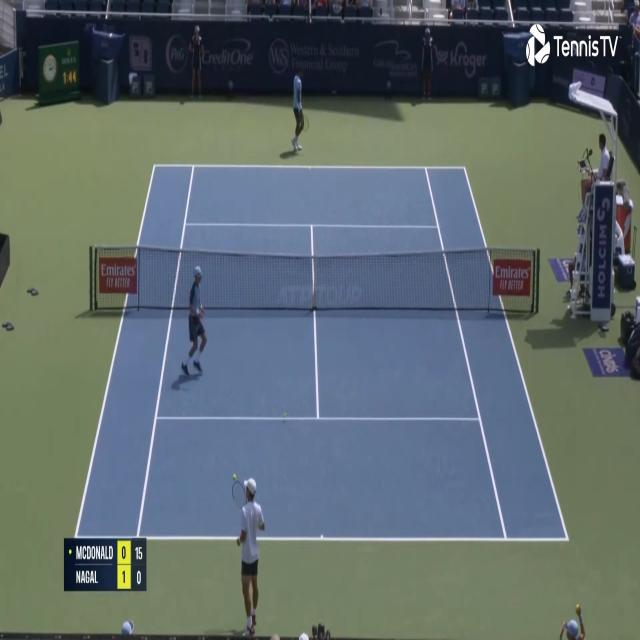tennis-player: (178, 262, 210, 384), (290, 59, 311, 153)
